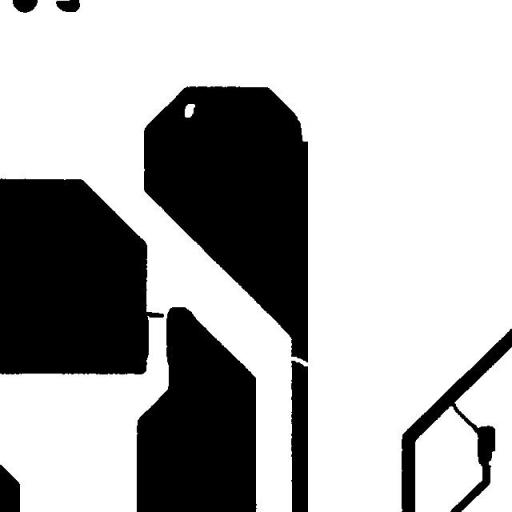copper: (48, 0, 87, 19)
mousebite: (290, 109, 318, 149), (481, 443, 503, 473)
open: (279, 348, 318, 374)
pin-hole: (177, 96, 202, 125)
short: (438, 391, 492, 445)
spur: (137, 304, 171, 325)
